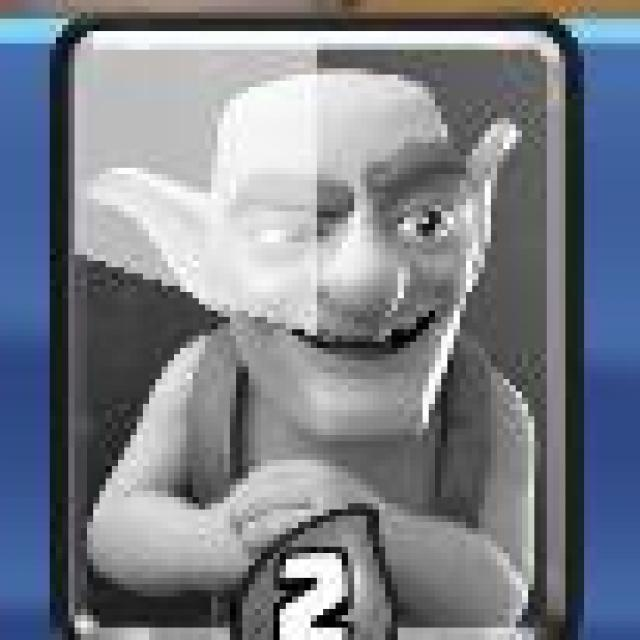Goblins: (51, 15, 577, 637)
